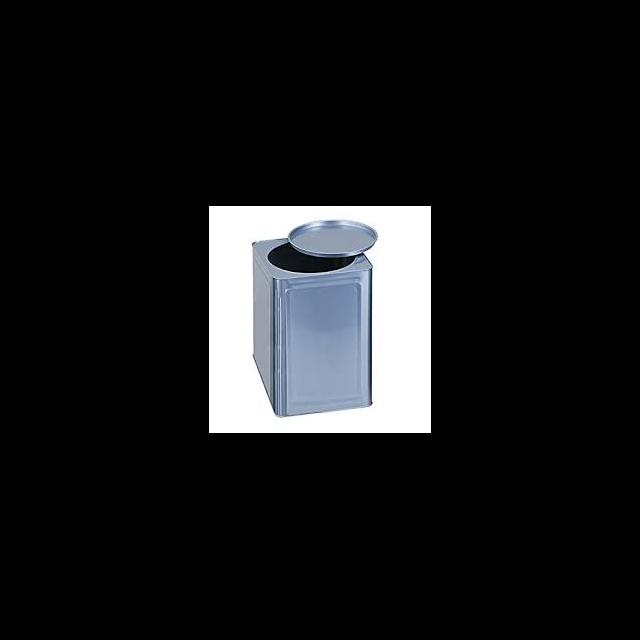metal: (252, 236, 372, 417), (287, 220, 377, 256)
